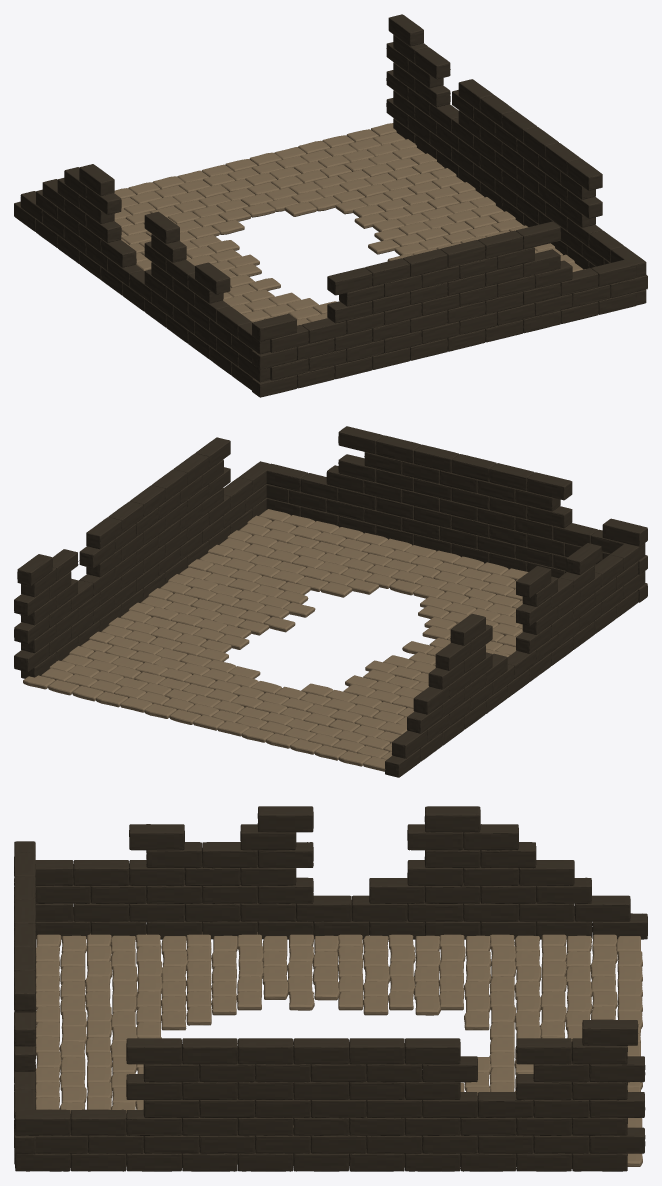
File: BossRoom.fbx
3 views of the same model, one above another, from view 1: azimuth 30°, elevation 25°; view 2: azimuth 150°, elevation 25°; view 3: azimuth 270°, elevation 25° (orthographic). The views are drawn at different scales.
Visible parts, largest first — view 1: BossRoom.246; view 2: BossRoom.246; view 3: BossRoom.246.
Boxes of the visible parts, x1=… form: BossRoom.246: x1=14, y1=14, x2=647, y2=397; BossRoom.246: x1=14, y1=426, x2=647, y2=777; BossRoom.246: x1=14, y1=806, x2=647, y2=1171.
Bounding box in the file's own units: 4018 × 1108 × 4436.
